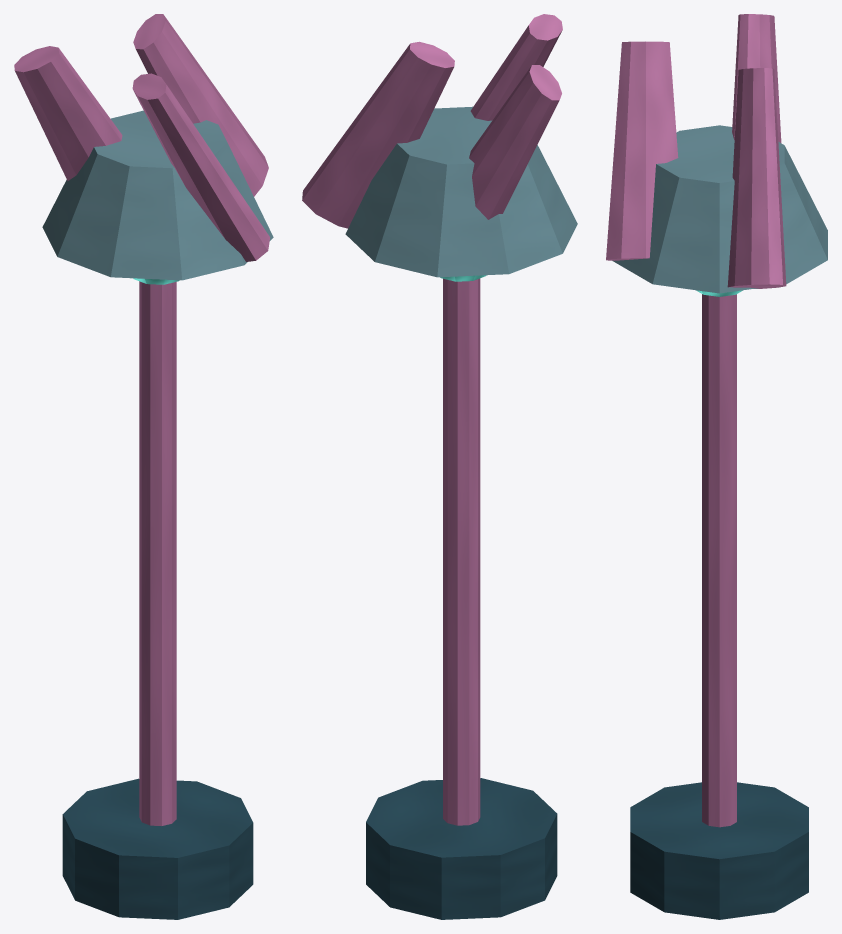
Rendered from atlas100-abyss-util01.glb.
3 renders of one model, left to right at view 1: azimuth 30°, elevation 25°; view 2: azimuth 150°, elevation 25°; view 3: azimuth 270°, elevation 25°, orthographic. The views are drawn at different scales.
Visible parts, largest first — view 1: atlas100-abyss-util01:part-000, atlas100-abyss-util01:part-002, atlas100-abyss-util01:part-001, atlas100-abyss-util01:part-004, atlas100-abyss-util01:part-006, atlas100-abyss-util01:part-005; view 2: atlas100-abyss-util01:part-002, atlas100-abyss-util01:part-000, atlas100-abyss-util01:part-001, atlas100-abyss-util01:part-005, atlas100-abyss-util01:part-006, atlas100-abyss-util01:part-004; view 3: atlas100-abyss-util01:part-000, atlas100-abyss-util01:part-001, atlas100-abyss-util01:part-002, atlas100-abyss-util01:part-004, atlas100-abyss-util01:part-005, atlas100-abyss-util01:part-006.
Boxes of the visible parts, <box> form: atlas100-abyss-util01:part-000: <box>62,778,253,919</box>; atlas100-abyss-util01:part-002: <box>42,110,273,280</box>; atlas100-abyss-util01:part-001: <box>139,281,176,825</box>; atlas100-abyss-util01:part-004: <box>132,73,269,261</box>; atlas100-abyss-util01:part-006: <box>14,46,122,180</box>; atlas100-abyss-util01:part-005: <box>133,14,268,196</box>; atlas100-abyss-util01:part-002: <box>345,106,577,277</box>; atlas100-abyss-util01:part-000: <box>366,778,557,919</box>; atlas100-abyss-util01:part-001: <box>443,278,480,825</box>; atlas100-abyss-util01:part-005: <box>302,41,454,228</box>; atlas100-abyss-util01:part-006: <box>469,65,561,219</box>; atlas100-abyss-util01:part-004: <box>470,14,562,120</box>; atlas100-abyss-util01:part-000: <box>630,782,808,919</box>; atlas100-abyss-util01:part-001: <box>702,294,736,827</box>; atlas100-abyss-util01:part-002: <box>612,125,827,293</box>; atlas100-abyss-util01:part-004: <box>606,41,678,260</box>; atlas100-abyss-util01:part-005: <box>727,68,786,288</box>; atlas100-abyss-util01:part-006: <box>732,14,781,142</box>.
Size of the model in its own units: 0.9124 by 2.91 by 0.7079.
4 materials, 4 textured.
